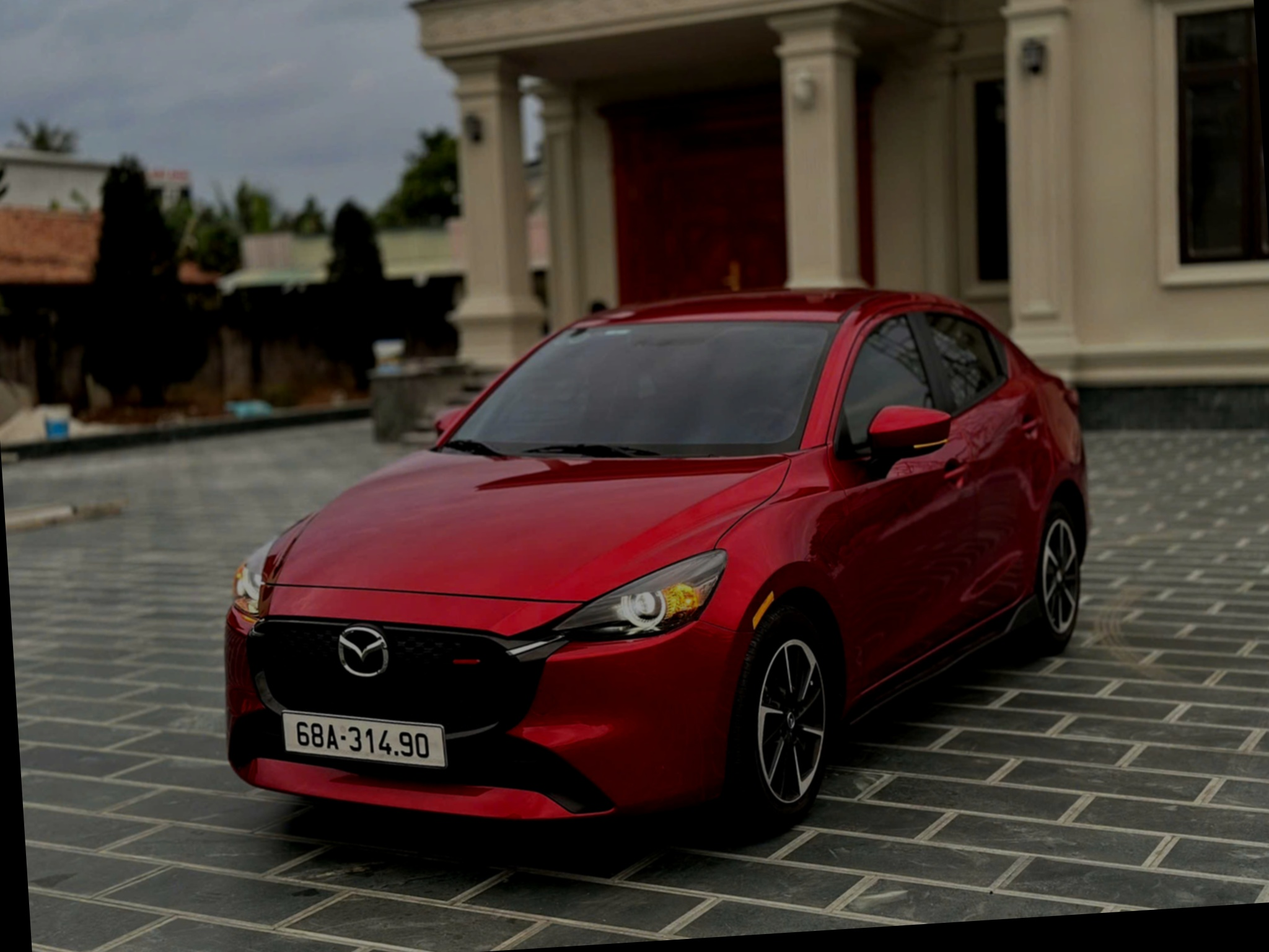Bien-so: (306, 696, 454, 759)
